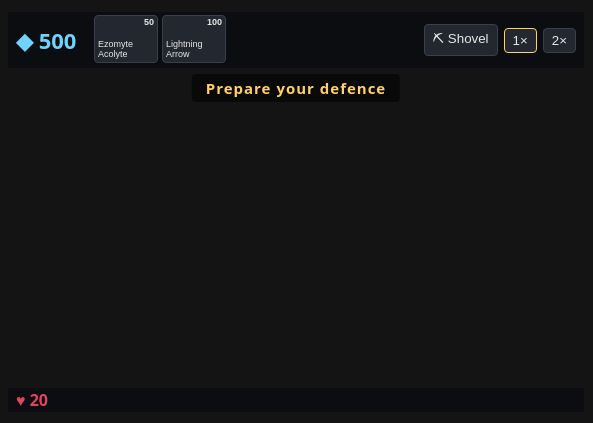
Test: the HUD › hovering a roster card shows its gem-style tooltip: description, stat lines and level
Hover over the button with test id "card-arrow": x=194, y=39 [162,15,226,63]
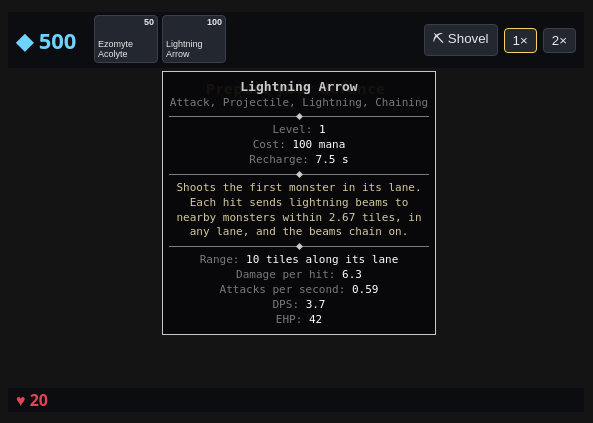
Check: the element with test id "hero-tooltip" shows "Damage per hit", box [236,268,329,281]
Check: the element with test id "hero-tooltip" shows "Attacks per second", box [220,283,339,296]
Check: the element with test id "hero-tooltip" shows "Range", box [200,253,233,266]
Move the pointer off the button with test id "card-arrow", box [162,15,226,63]
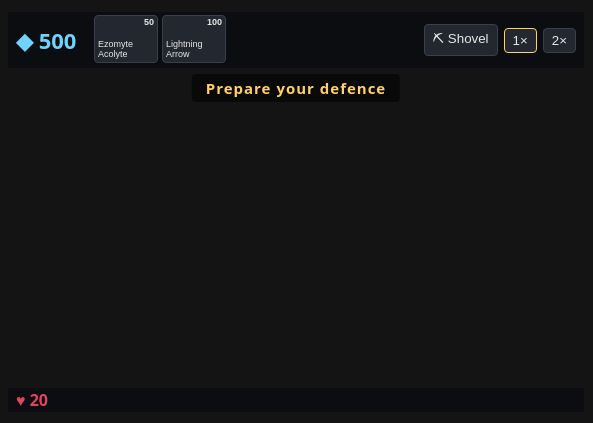
Check: the element with test id "hero-tooltip" is gone
